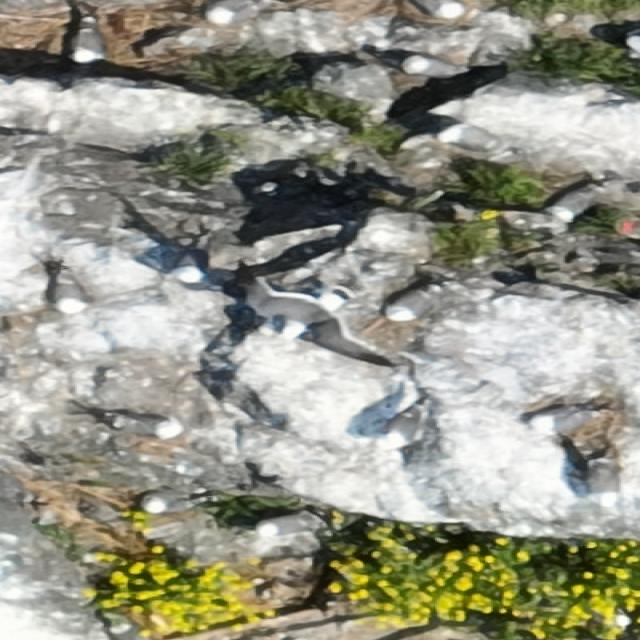F: (248, 281, 389, 366)
umineko: (90, 408, 186, 439), (382, 398, 428, 451), (550, 180, 608, 222), (582, 453, 623, 509), (437, 122, 505, 154), (385, 284, 445, 320), (529, 408, 600, 434), (72, 9, 105, 63), (51, 270, 87, 313), (204, 2, 268, 26), (168, 250, 208, 288), (259, 516, 321, 540), (405, 56, 469, 78), (421, 0, 468, 19), (147, 496, 196, 514), (259, 177, 298, 199), (109, 623, 146, 640)
